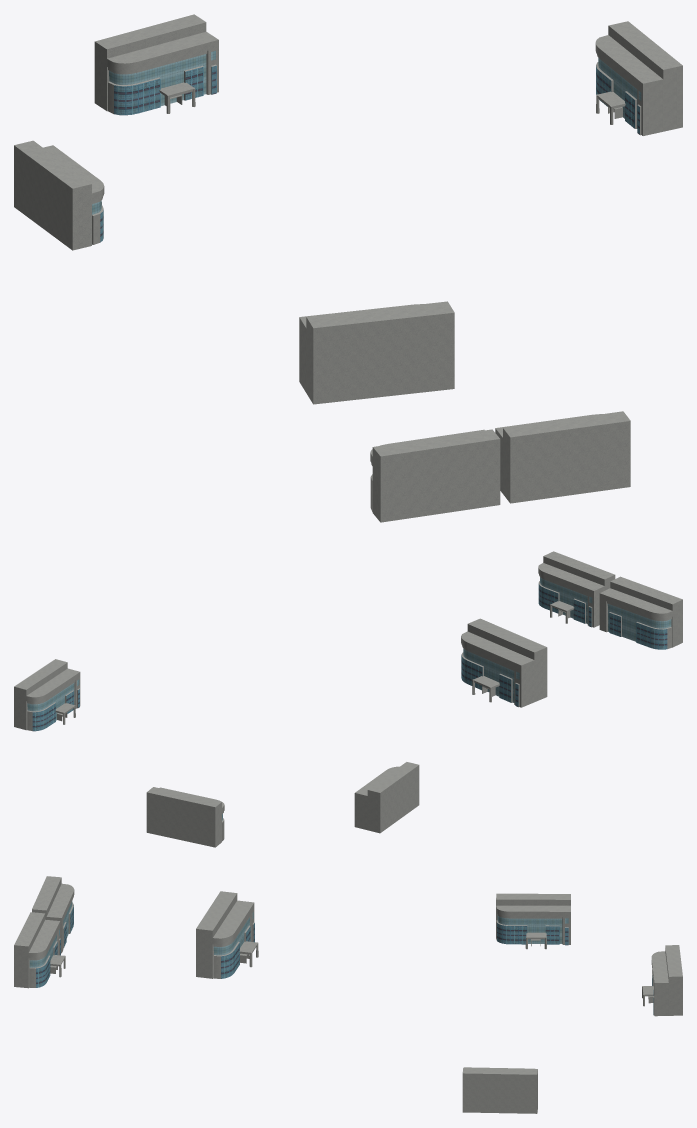
File: Mexico_track_building_city_02.dae
3 views of the same model, one above another, from view 1: azimuth 30°, elevation 25°; view 2: azimuth 150°, elevation 25°; view 3: azimuth 270°, elevation 25° (orthographic). The views are drawn at different scales.
Visible parts, largest first — view 1: building_city_01, building_city_02, building_city_03, building_city_05, building_city_04, building_city_06; view 2: building_city_01, building_city_03, building_city_02, building_city_05, building_city_04, building_city_06; view 3: building_city_01, building_city_06, building_city_04, building_city_02, building_city_05, building_city_03.
Boxes of the visible parts, x1,y1,x2,y2 form: building_city_01: (299,301,454,404); building_city_02: (495,411,630,503); building_city_03: (370,429,500,522); building_city_05: (94,14,218,115); building_city_04: (595,21,682,135); building_city_06: (14,140,104,250); building_city_01: (461,618,547,707); building_city_03: (599,576,682,649); building_city_02: (538,551,615,627); building_city_05: (146,787,224,847); building_city_04: (14,659,80,731); building_city_06: (354,762,419,833); building_city_01: (196,891,258,978); building_city_06: (496,893,570,949); building_city_04: (462,1067,537,1113); building_city_02: (14,912,65,988); building_city_05: (642,945,682,1016); building_city_03: (32,876,74,953).
Size of the model in its own units: 43.59 by 62.88 by 5.02.
2 materials, 2 textured.
